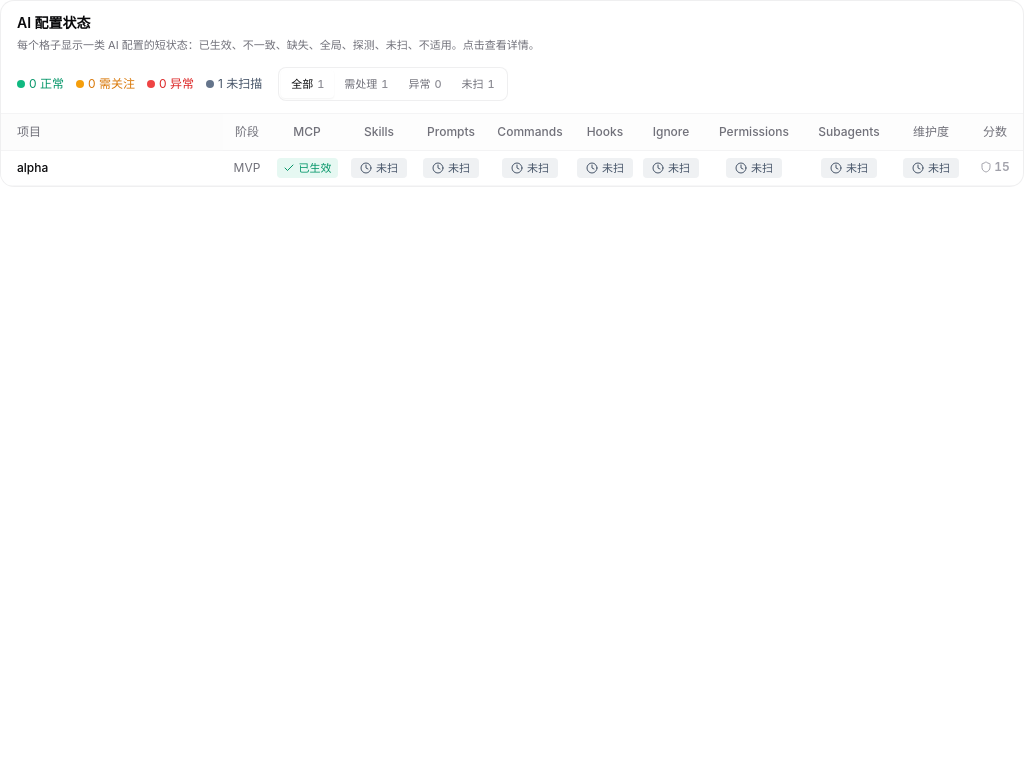
Scenario: ProjectAssetsMatrix 无障碍语义 › Esc 关掉详情面板
This screenshot has width=1024, height=768.
Click the button "已生效": [307, 168] box 276,158 -> 338,178
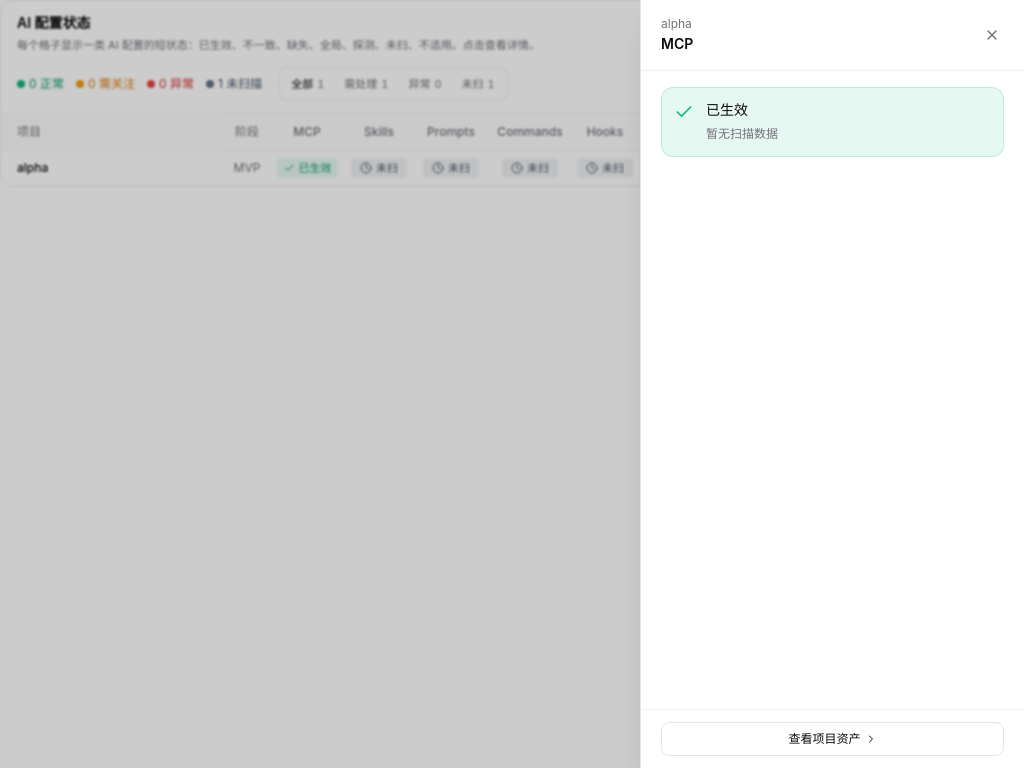
Check: the dialog is shown, box 640,0 -> 1023,767
Press Escape
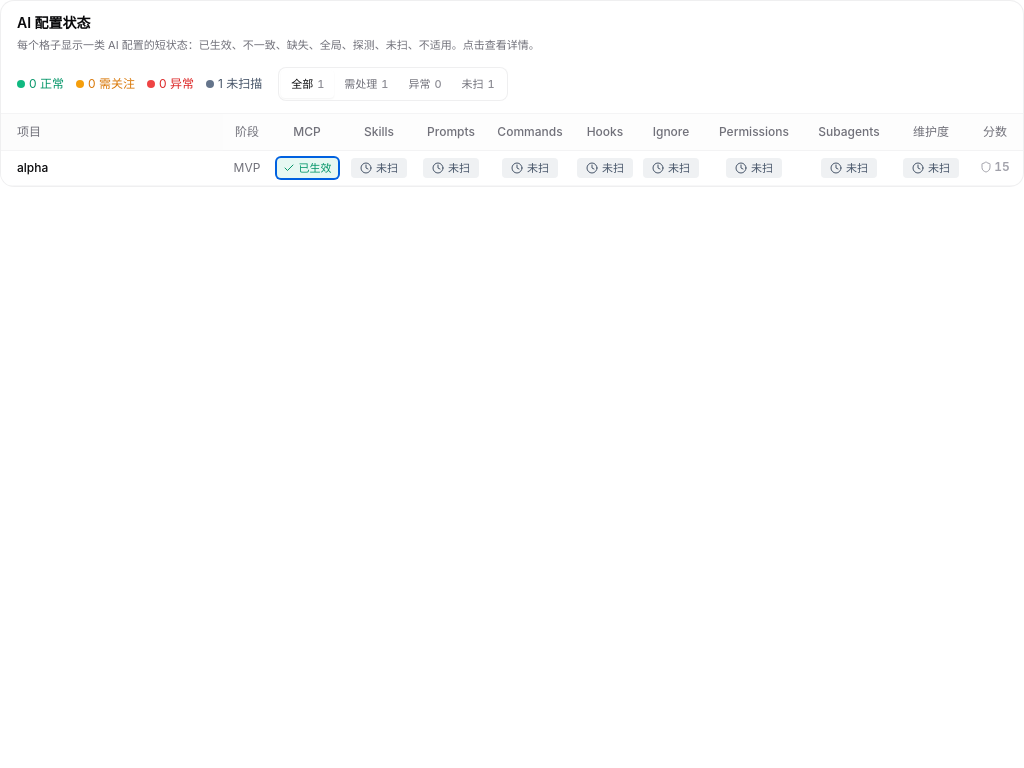
Check: the dialog is gone
